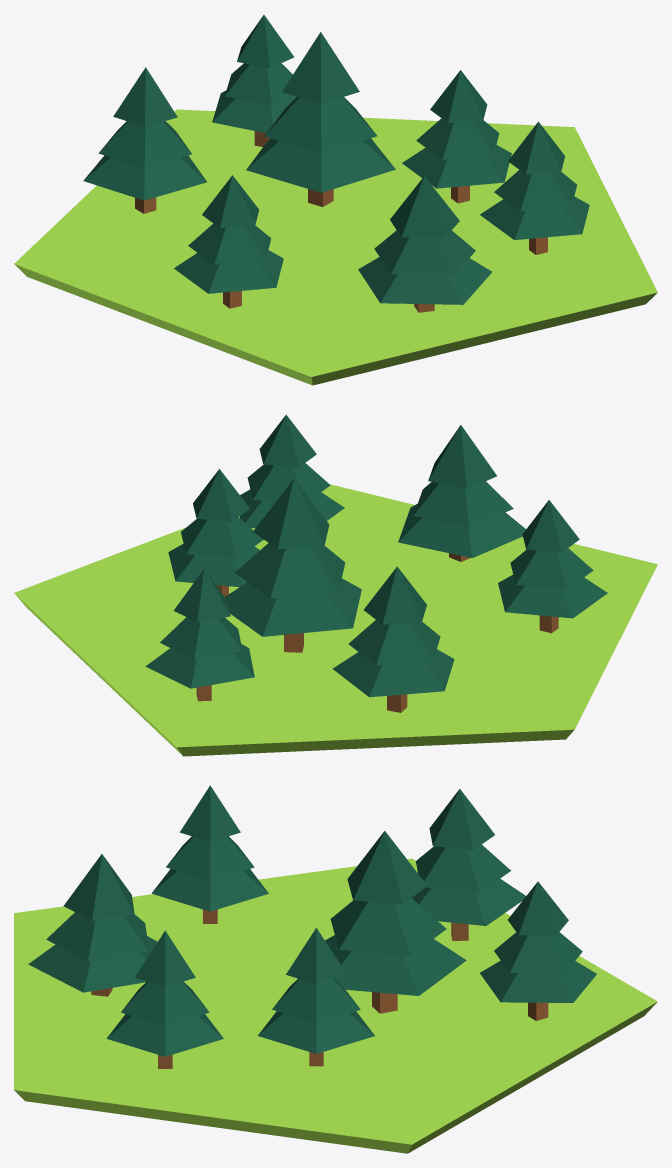
Rendered from TuileForestOine2.fbx.
3 renders of one model, top to bottom at view 1: azimuth 30°, elevation 25°; view 2: azimuth 150°, elevation 25°; view 3: azimuth 270°, elevation 25°, orthographic. The views are drawn at different scales.
Visible parts, largest first — view 1: origine.004; view 2: origine.004; view 3: origine.004.
Part boxes in pixels (x1,y1,x2,y2): origine.004: [14, 15, 657, 385]; origine.004: [14, 414, 657, 756]; origine.004: [14, 785, 657, 1153].
Bounding box in the file's own units: 111 × 34.74 × 105.
